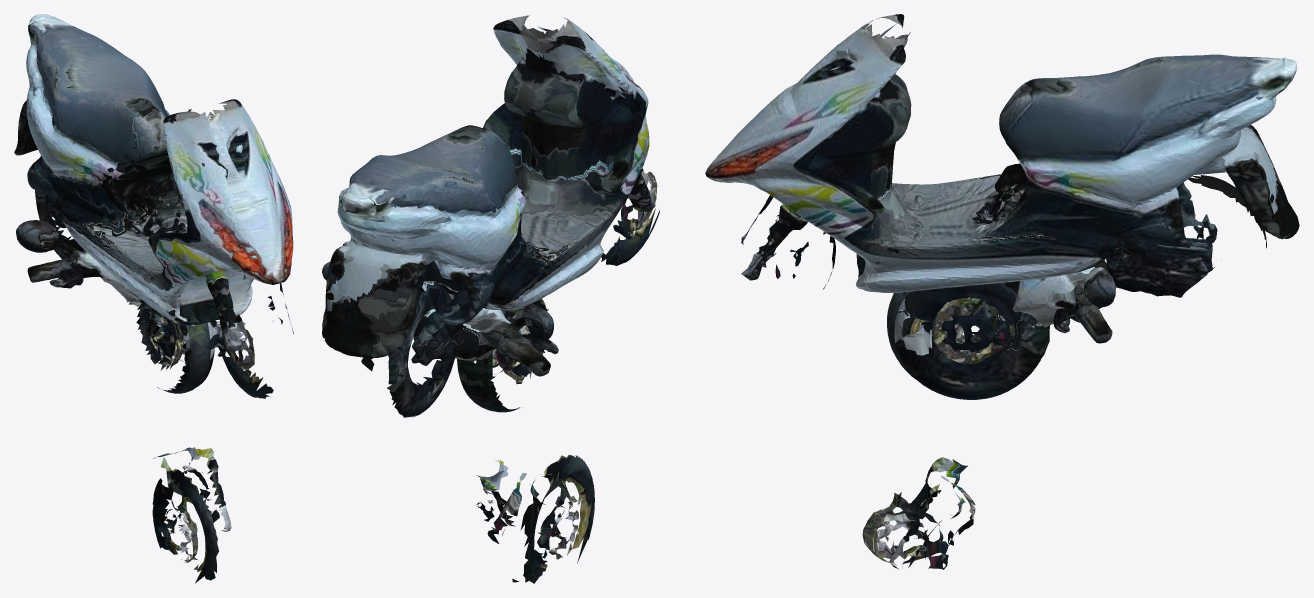
File: gh_body.glb
3 renders of one model, left to right at view 1: azimuth 30°, elevation 25°; view 2: azimuth 150°, elevation 25°; view 3: azimuth 270°, elevation 25°, orthographic. The views are drawn at different scales.
Parts seen in each view (by area): view 1: body, seat, steer, wheelF, wheelR; view 2: body, steer, seat, wheelR, wheelF; view 3: body, seat, wheelR, steer, wheelF.
Part boxes in pixels (<box>): body: <box>14,14,293,398</box>; seat: <box>27,23,166,139</box>; steer: <box>16,220,231,583</box>; wheelF: <box>136,299,210,393</box>; wheelR: <box>138,301,226,391</box>; body: <box>322,15,659,417</box>; steer: <box>322,262,594,583</box>; seat: <box>339,125,508,233</box>; wheelR: <box>457,300,548,412</box>; wheelF: <box>465,298,546,411</box>; body: <box>705,14,1299,297</box>; seat: <box>1006,54,1267,132</box>; wheelR: <box>890,281,1049,399</box>; steer: <box>862,260,1115,569</box>; wheelF: <box>887,291,1049,379</box>.
Bounding box in the file's own units: 0.8688 × 1.97 × 1.91.
Materials: 1 (1 with a texture image).
